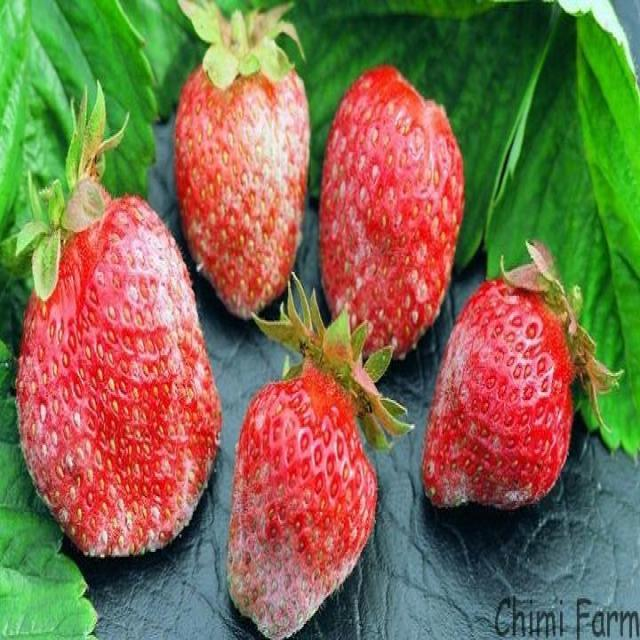Oído: (16, 194, 223, 556), (319, 75, 466, 361), (225, 368, 379, 640), (420, 277, 576, 505), (175, 57, 310, 318)
